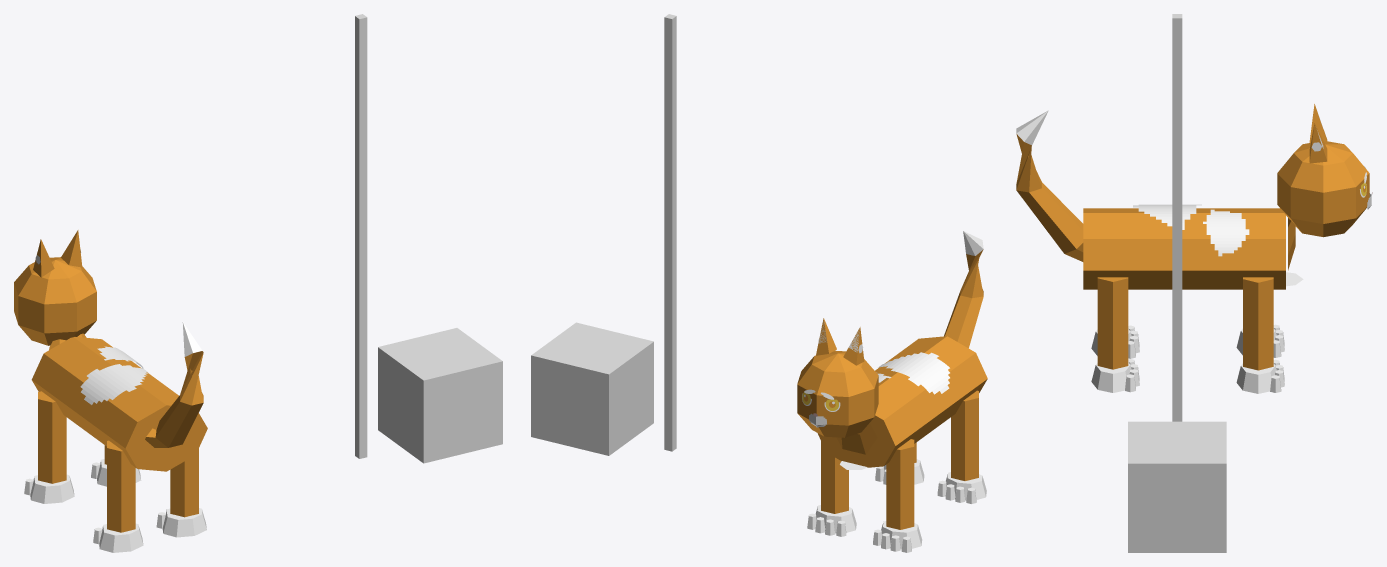
Rendered from cat-orange_LOD0_roblox.fbx.
3 renders of one model, left to right at view 1: azimuth 30°, elevation 25°; view 2: azimuth 150°, elevation 25°; view 3: azimuth 270°, elevation 25°, orthographic. The views are drawn at different scales.
Visible parts, largest first — view 1: 1_Stud_Cube, Cat_BlackMat_body, 5.3_Stud_Height_Ruler, Cat_BlackMat_head, Cat_BlackMat_frontL_leg, Cat_BlackMat_backL_leg, Cat_BlackMat_tail, Cat_WhiteMat_spot_1, Cat_BlackMat_backR_leg, Cat_WhiteMat_backL_paw, Cat_WhiteMat_backR_paw, Cat_WhiteMat_frontL_paw; view 2: 1_Stud_Cube, Cat_BlackMat_body, 5.3_Stud_Height_Ruler, Cat_BlackMat_head, Cat_BlackMat_frontL_leg, Cat_BlackMat_backL_leg, Cat_BlackMat_tail, Cat_WhiteMat_spot_1, Cat_BlackMat_frontR_leg, Cat_WhiteMat_frontR_paw, Cat_WhiteMat_backL_paw, Cat_WhiteMat_frontL_paw (+1 smaller); view 3: Cat_BlackMat_body, 1_Stud_Cube, Cat_BlackMat_head, 5.3_Stud_Height_Ruler, Cat_BlackMat_tail, Cat_BlackMat_backR_leg, Cat_BlackMat_frontR_leg, Cat_WhiteMat_spot_2, Cat_WhiteMat_frontR_paw, Cat_WhiteMat_backR_paw, Cat_WhiteMat_spot_1, Cat_WhiteMat_tailTip (+3 smaller).
Boxes of the visible parts, box(x1,y1,x2,y2) form: 1_Stud_Cube: box(378, 328, 502, 463); Cat_BlackMat_body: box(31, 337, 207, 471); 5.3_Stud_Height_Ruler: box(355, 14, 367, 458); Cat_BlackMat_head: box(14, 257, 96, 345); Cat_BlackMat_frontL_leg: box(38, 391, 66, 483); Cat_BlackMat_backL_leg: box(107, 440, 135, 532); Cat_BlackMat_tail: box(155, 351, 203, 447); Cat_WhiteMat_spot_1: box(80, 364, 148, 404); Cat_BlackMat_backR_leg: box(170, 448, 198, 517); Cat_WhiteMat_backL_paw: box(93, 523, 143, 552); Cat_WhiteMat_backR_paw: box(156, 508, 206, 537); Cat_WhiteMat_frontL_paw: box(24, 474, 74, 503); 1_Stud_Cube: box(531, 322, 653, 455); Cat_BlackMat_body: box(817, 336, 987, 467); 5.3_Stud_Height_Ruler: box(664, 14, 676, 451); Cat_BlackMat_head: box(797, 350, 878, 437); Cat_BlackMat_frontL_leg: box(886, 439, 914, 529); Cat_BlackMat_backL_leg: box(951, 390, 978, 480); Cat_BlackMat_tail: box(944, 249, 983, 348); Cat_WhiteMat_spot_1: box(878, 352, 949, 394); Cat_BlackMat_frontR_leg: box(821, 441, 848, 513); Cat_WhiteMat_frontR_paw: box(807, 505, 856, 536); Cat_WhiteMat_backL_paw: box(937, 472, 986, 503); Cat_WhiteMat_frontL_paw: box(873, 521, 922, 552); Cat_BlackMat_body: box(1083, 208, 1285, 289); 1_Stud_Cube: box(1128, 421, 1226, 552); Cat_BlackMat_head: box(1277, 141, 1369, 237); 5.3_Stud_Height_Ruler: box(1172, 14, 1182, 421); Cat_BlackMat_tail: box(1016, 134, 1083, 253); Cat_BlackMat_backR_leg: box(1097, 277, 1128, 369); Cat_BlackMat_frontR_leg: box(1243, 277, 1273, 370); Cat_WhiteMat_spot_2: box(1203, 209, 1249, 256); Cat_WhiteMat_frontR_paw: box(1236, 359, 1284, 393); Cat_WhiteMat_backR_paw: box(1091, 359, 1139, 392); Cat_WhiteMat_spot_1: box(1133, 204, 1201, 229); Cat_WhiteMat_tailTip: box(1016, 110, 1048, 145).
Size of the model in its own units: 5.19 by 3.61 by 5.3.
